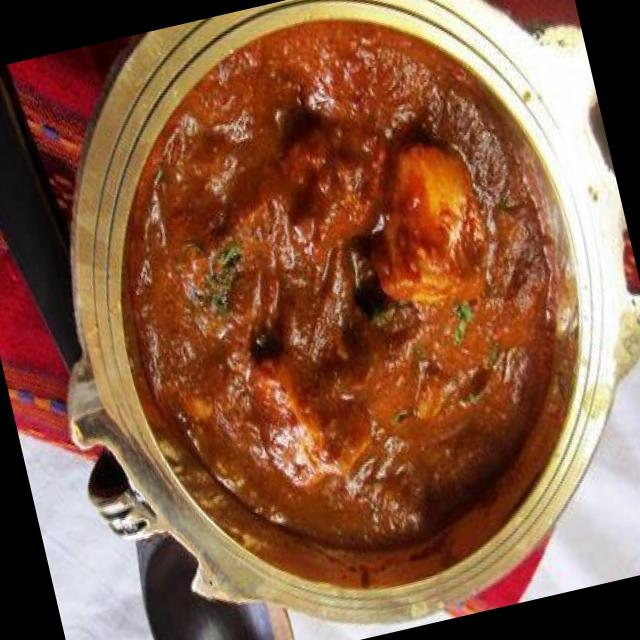ShahiPaneer: (80, 0, 597, 584)
